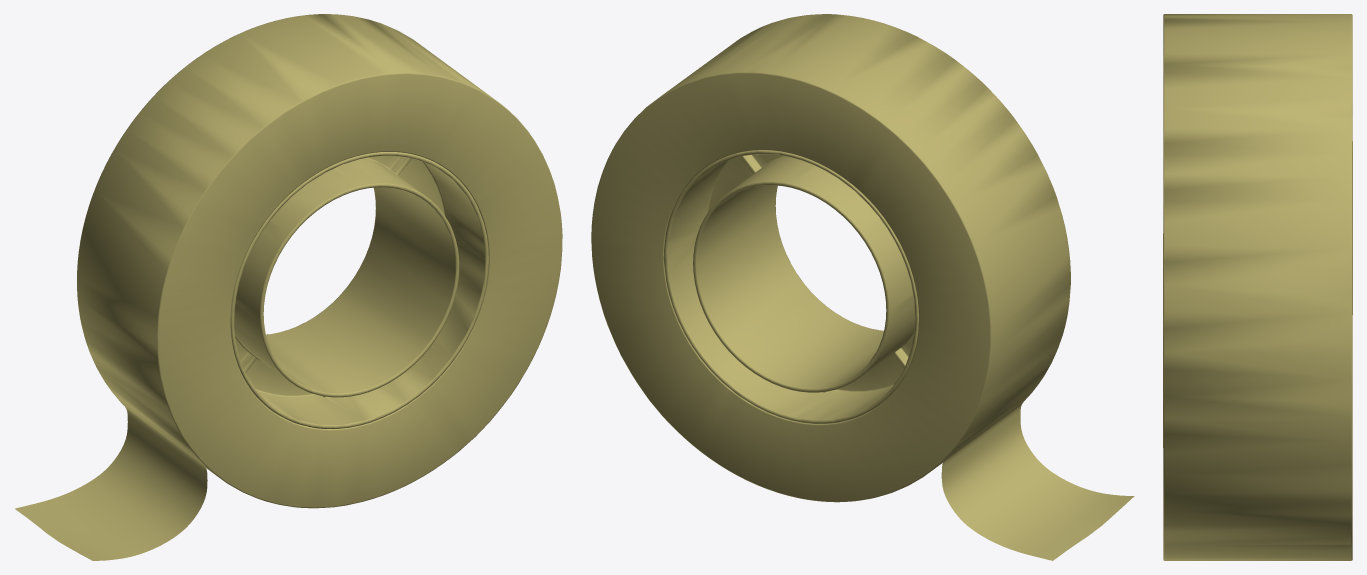
The model's file is taperoll.glb.
The picture shows the model from 3 angles, left to right: view 1: azimuth 30°, elevation 25°; view 2: azimuth 150°, elevation 25°; view 3: azimuth 270°, elevation 25°; orthographic projection. The views are drawn at different scales.
Visible parts, largest first — view 1: geometry_0; view 2: geometry_0; view 3: geometry_0.
Part boxes in pixels (<box>): geometry_0: <box>15,14,562,560</box>; geometry_0: <box>591,14,1134,560</box>; geometry_0: <box>1163,14,1352,560</box>.
Bounding box in the file's own units: 0.0637 × 0.055 × 0.019.
